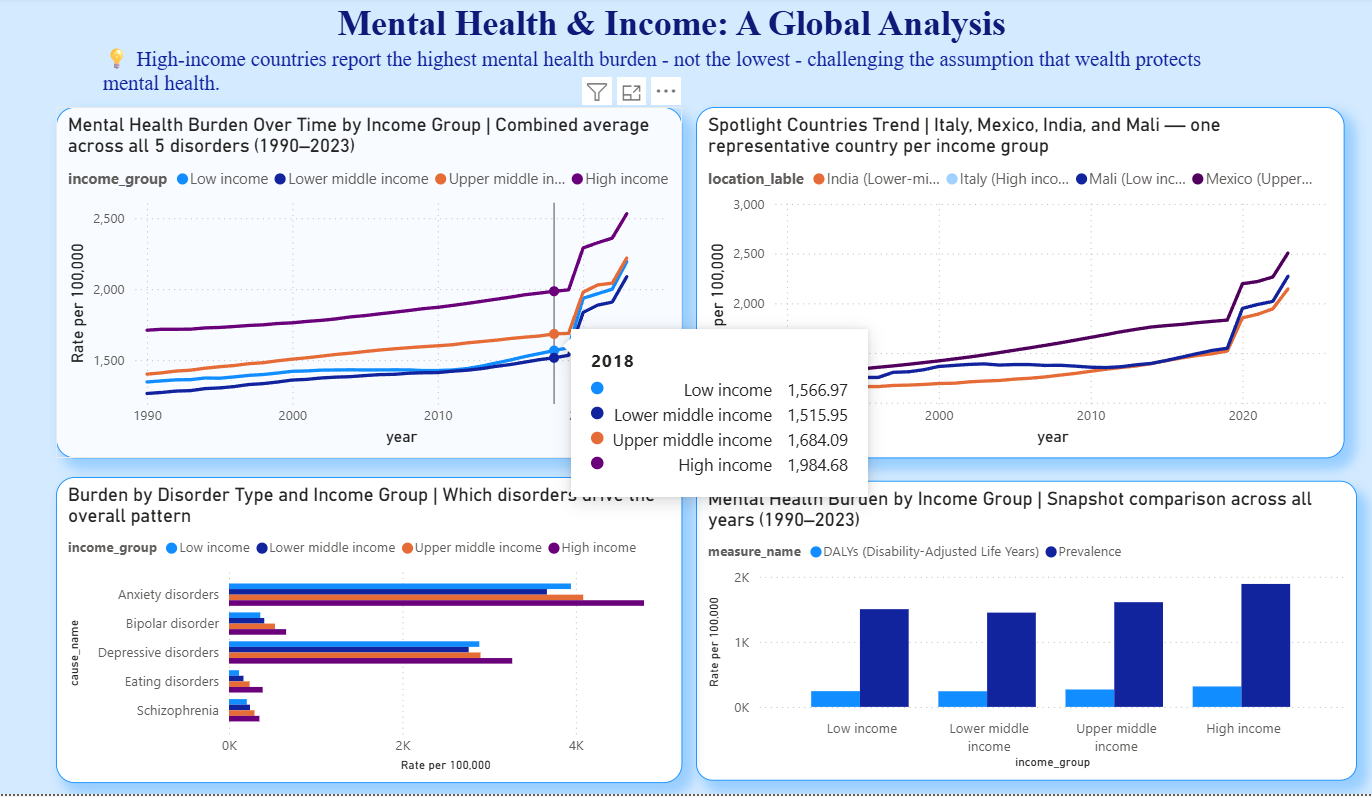

What the dashboard file says about the page in this screenshot:
{"tool":"powerbi","page":{"name":"Page 1","canvas":[1280,720],"ordinal":0},"visuals":[{"type":"clusteredColumnChart","title":"Mental Health Burden by Income Group | Snapshot comparison across all years (1990–2023)","fields":{"Category":["income_group_summary.income_group"],"Series":["income_group_summary.measure_name"],"Y":["Sum(income_group_summary.val)"]},"box":[640.2,436.2,596.2,270.5],"z":0},{"type":"lineChart","title":"Mental Health Burden Over Time by Income Group | Combined average across all 5 disorders (1990–2023)","fields":{"Category":["trend_by_income_group.year"],"Y":["Sum(trend_by_income_group.val)"],"Series":["trend_by_income_group.income_group"]},"box":[63.1,99.2,564.7,316.7],"z":1000},{"type":"clusteredBarChart","title":"Burden by Disorder Type and Income Group | Which disorders drive the overall pattern","fields":{"Y":["Sum(disorder_by_income.val)"],"Category":["disorder_by_income.cause_name"],"Series":["disorder_by_income.income_group"]},"box":[63.1,432.8,564.7,276.1],"z":2000},{"type":"lineChart","title":"Spotlight Countries Trend | Italy, Mexico, India, and Mali — one representative country per income group","fields":{"Category":["spotlight_countries_trend.year"],"Y":["Avg(spotlight_countries_trend.val)"],"Series":["spotlight_countries_trend.location_lable"]},"box":[640.2,99.2,585,316.7],"z":3000},{"type":"textbox","box":[100.3,0,1035.7,99],"z":4000}]}

Visuals, with their boxes on the page's 1280x720 design canvas (x1, y1, x2, y2). These are canvas units, not pixel positions in the 1372x797 screenshot, which may show the page scaled, cropped or inside an application window:
"Mental Health Burden by Income Group | Snapshot comparison across all years (1990–2023)" clusteredColumnChart: Rect(640, 436, 1236, 707)
"Mental Health Burden Over Time by Income Group | Combined average across all 5 disorders (1990–2023)" lineChart: Rect(63, 99, 628, 416)
"Burden by Disorder Type and Income Group | Which disorders drive the overall pattern" clusteredBarChart: Rect(63, 433, 628, 709)
"Spotlight Countries Trend | Italy, Mexico, India, and Mali — one representative country per income group" lineChart: Rect(640, 99, 1225, 416)
textbox: Rect(100, 0, 1136, 99)
